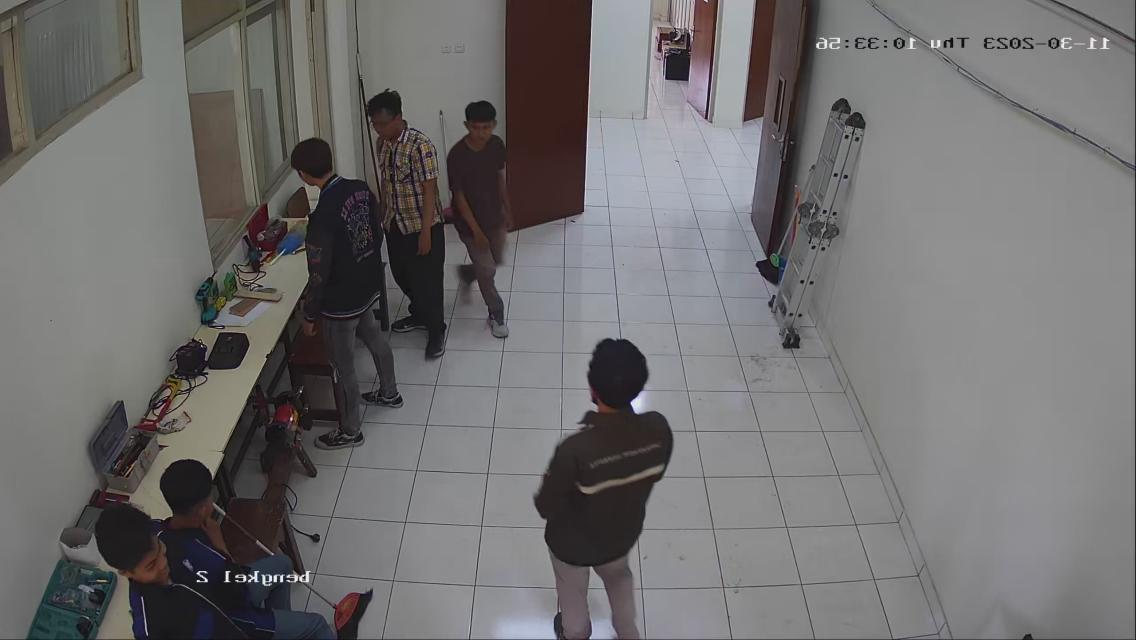Person-Crowd: (524, 332, 666, 640), (291, 140, 410, 449), (347, 86, 448, 336), (445, 101, 513, 339)
